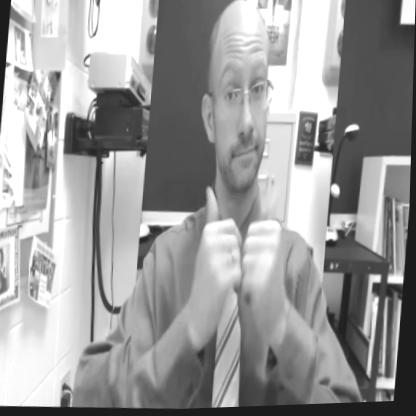HowAreYou: (127, 0, 345, 412)
